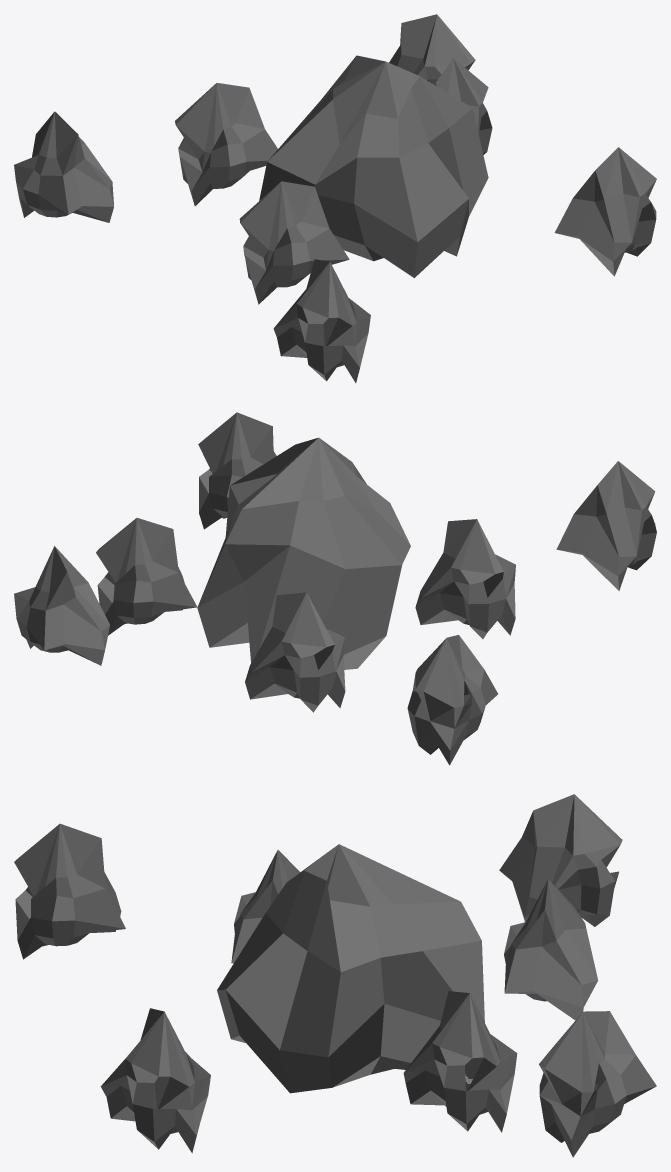
Rendered from rockSpot.gltf.
3 renders of one model, top to bottom at view 1: azimuth 30°, elevation 25°; view 2: azimuth 150°, elevation 25°; view 3: azimuth 270°, elevation 25°, orthographic. The views are drawn at different scales.
Visible parts, largest first — view 1: sphere (×8); view 2: sphere (×8); view 3: sphere (×8).
Boxes of the visible parts, left/top/right/bottom form: sphere (×8): left=14, top=14, right=656, bottom=382; sphere (×8): left=14, top=412, right=656, bottom=765; sphere (×8): left=14, top=794, right=656, bottom=1157.
Bounding box in the file's own units: 4.35 × 1.75 × 4.61.
Materials: 8 (8 with a texture image).
